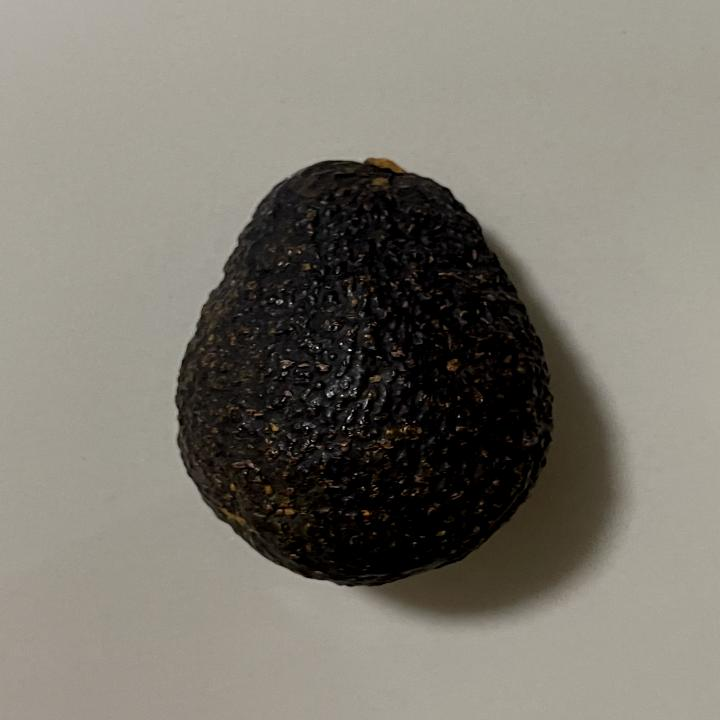Level2: (163, 146, 561, 592)
